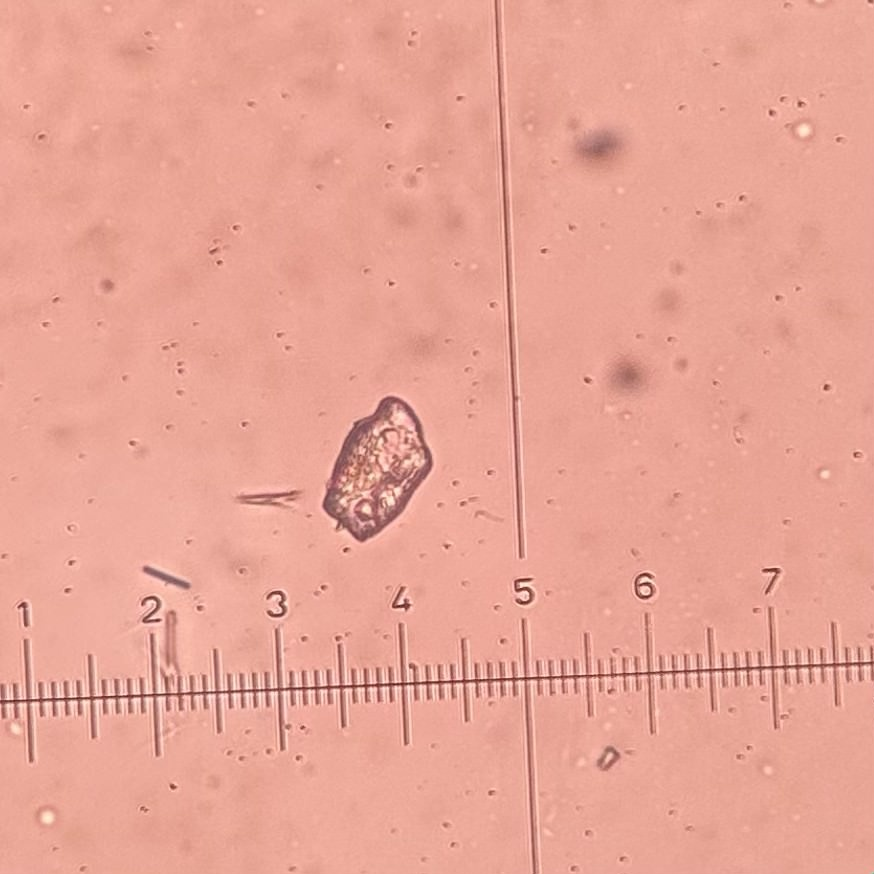microplastic: (322, 394, 437, 543), (239, 490, 310, 514), (145, 562, 195, 594)
